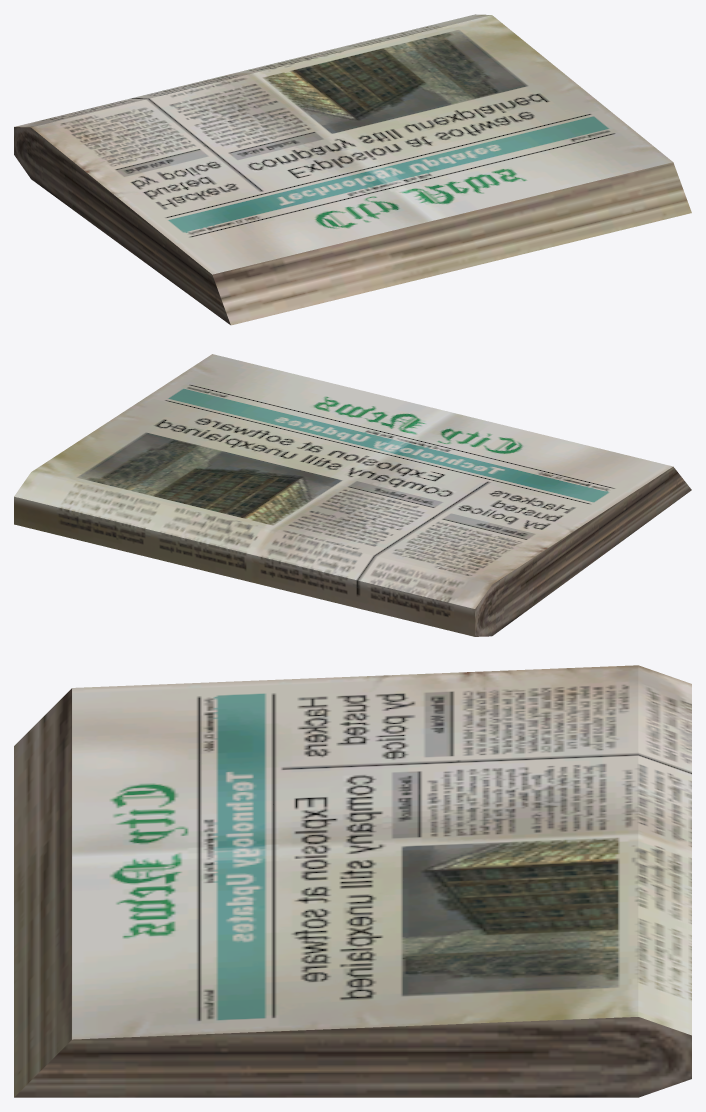
Rendered from newspaper.fbx.
The picture shows the model from 3 angles, top to bottom: view 1: azimuth 30°, elevation 25°; view 2: azimuth 150°, elevation 25°; view 3: azimuth 270°, elevation 25°; orthographic projection. The views are drawn at different scales.
Visible parts, largest first — view 1: mesh_0; view 2: mesh_0; view 3: mesh_0.
Part boxes in pixels (left/top/right/bottom): mesh_0: left=14, top=14, right=691, bottom=325; mesh_0: left=14, top=354, right=691, bottom=636; mesh_0: left=14, top=665, right=691, bottom=1097.
Bounding box in the file's own units: 46.62 × 5 × 38.
Materials: 1 (1 with a texture image).
